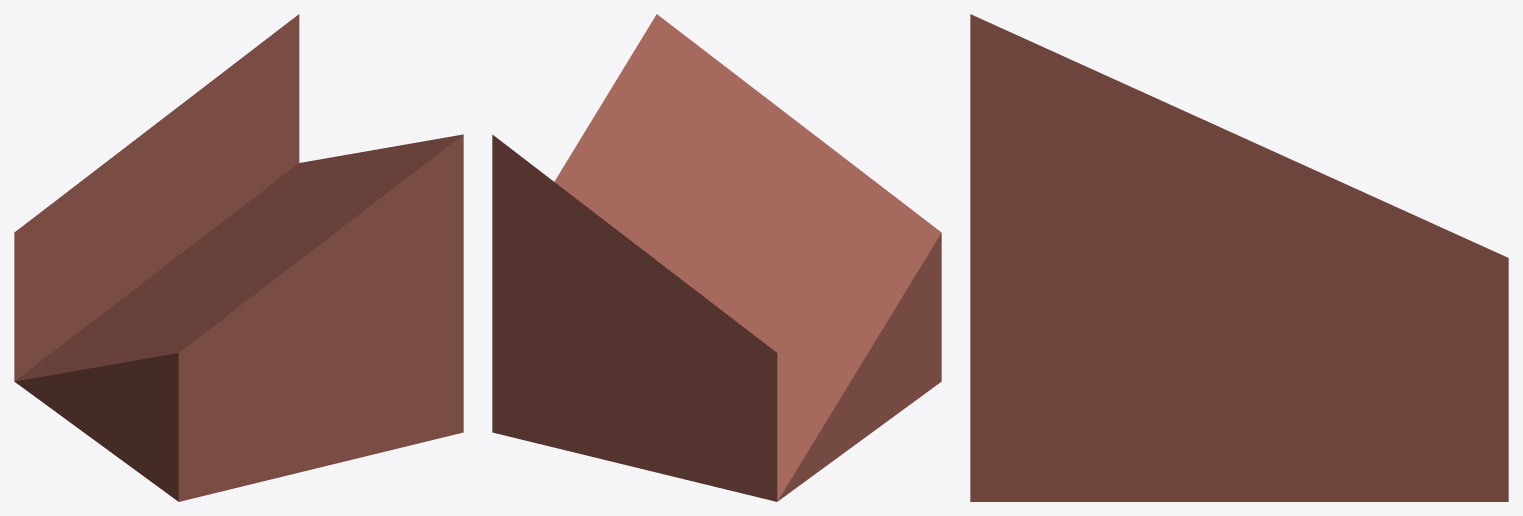
Rendered from Hazard_Corner.glb.
3 views of the same model, side by side, from view 1: azimuth 30°, elevation 25°; view 2: azimuth 150°, elevation 25°; view 3: azimuth 270°, elevation 25° (orthographic). The views are drawn at different scales.
Parts seen in each view (by area): view 1: Hazard_Corner_body; view 2: Hazard_Corner_body; view 3: Hazard_Corner_body.
Boxes of the visible parts, box(x1,y1,x2,y2) form: Hazard_Corner_body: box(14, 14, 463, 501); Hazard_Corner_body: box(492, 14, 941, 501); Hazard_Corner_body: box(970, 14, 1508, 501).
Bounding box in the file's own units: 1 × 1 × 1.
